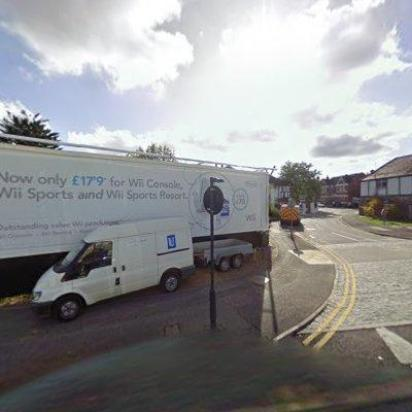stationary-light-truck-offstreet: (30, 217, 196, 324)
stationary-light-truck-onstreet: (278, 202, 302, 224)
x_other: (192, 239, 254, 272)
